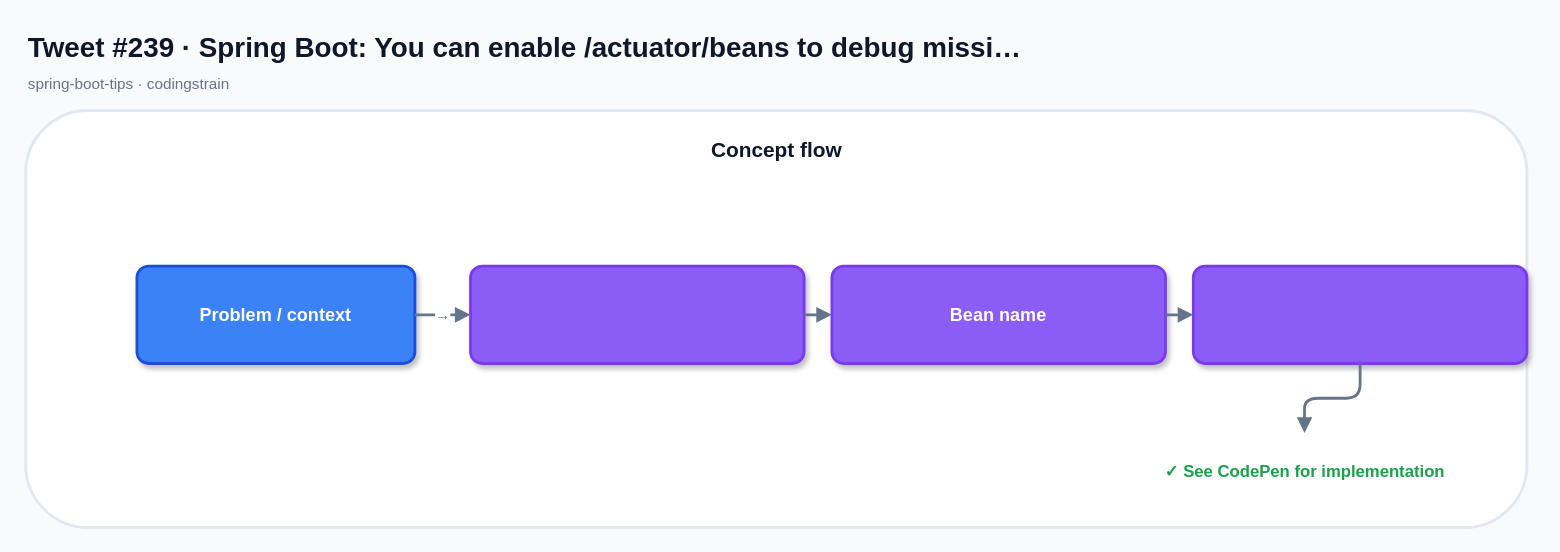
This 1560x552 diagram has some shape labels left out. The shapes that lost their labels are listed below. From the top down, each one's centre as x and y in pixels, then its label:
At pixel 638 316: "By hitting the actuator endpoint, you will see information like:".
At pixel 1361 316: "Bean type".
